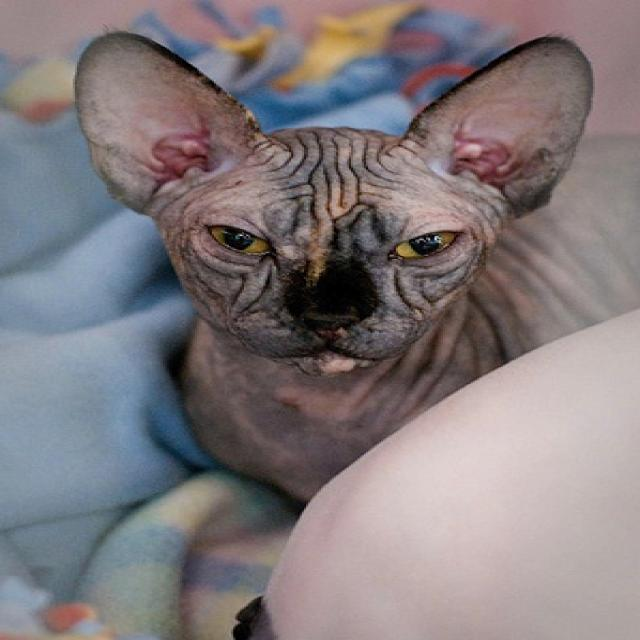Sphynx: (66, 27, 640, 499)
